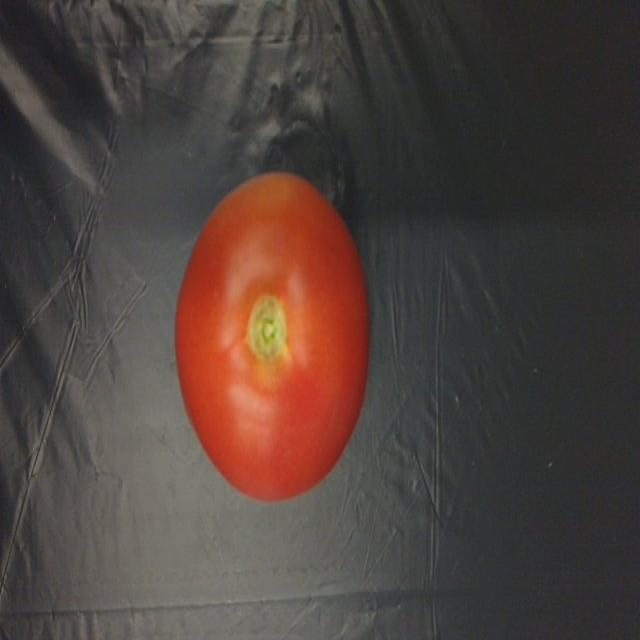sari: (150, 170, 371, 495)
